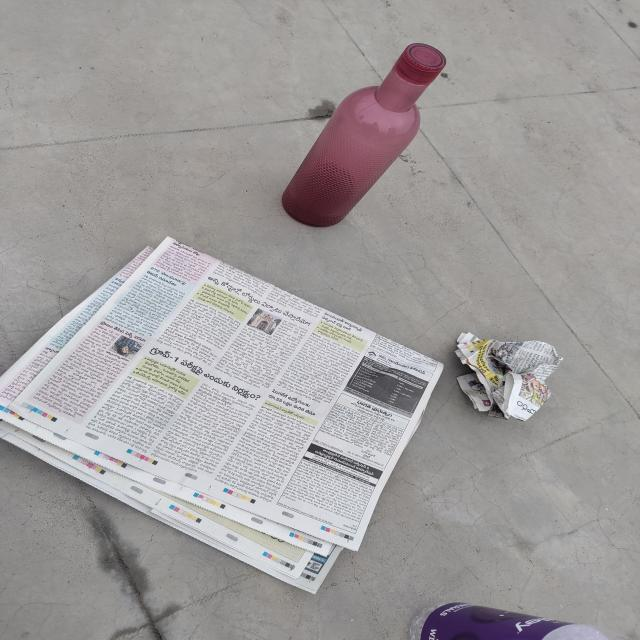dry: (0, 230, 444, 602), (240, 39, 553, 234), (452, 321, 587, 441), (414, 606, 640, 640)
